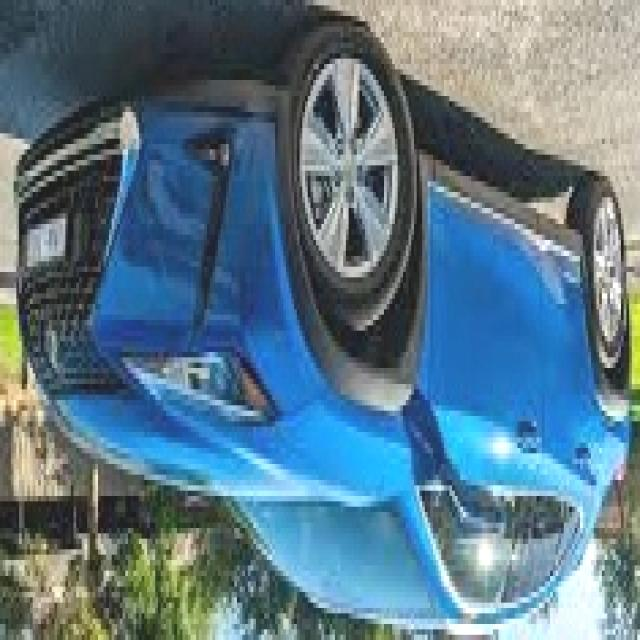blue: (0, 91, 627, 640)
